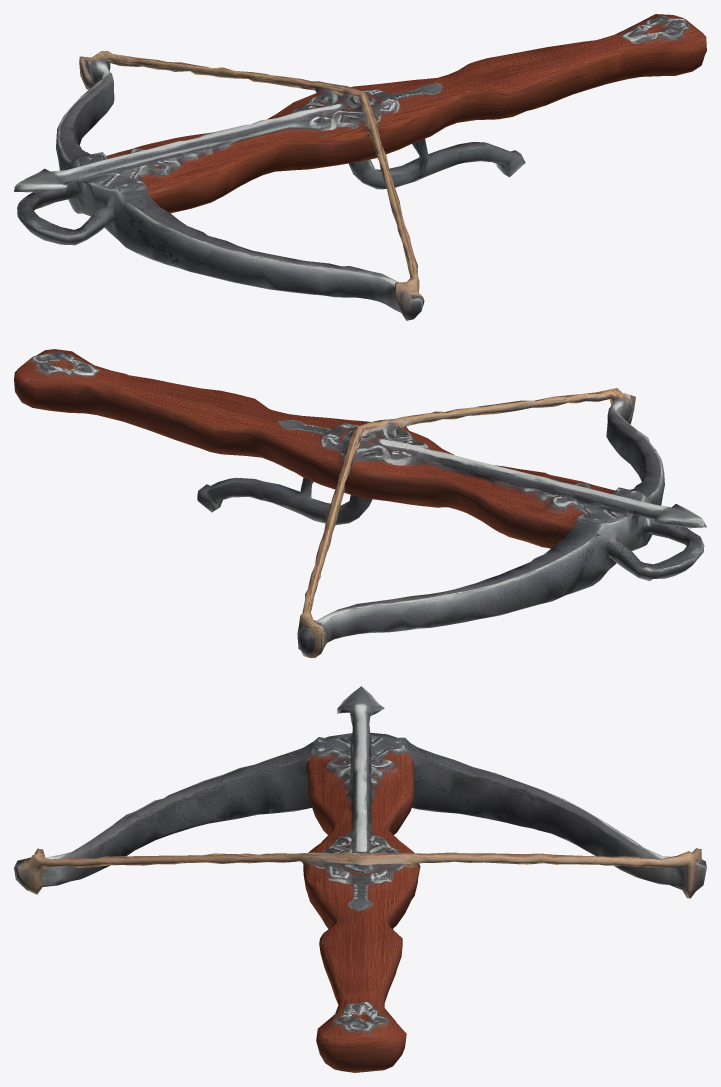
Rendered from Meshy_AI_ballesta_0422094627_texture.fbx.
3 views of the same model, one above another, from view 1: azimuth 30°, elevation 25°; view 2: azimuth 150°, elevation 25°; view 3: azimuth 270°, elevation 25° (orthographic). The views are drawn at different scales.
Parts seen in each view (by area): view 1: Mesh_0; view 2: Mesh_0; view 3: Mesh_0.
Boxes of the visible parts, x1,y1,x2,y2 form: Mesh_0: [14, 14, 706, 320]; Mesh_0: [14, 349, 706, 657]; Mesh_0: [14, 686, 706, 1072].
Size of the model in its own units: 192 by 32.07 by 160.
1 material, 1 textured.
